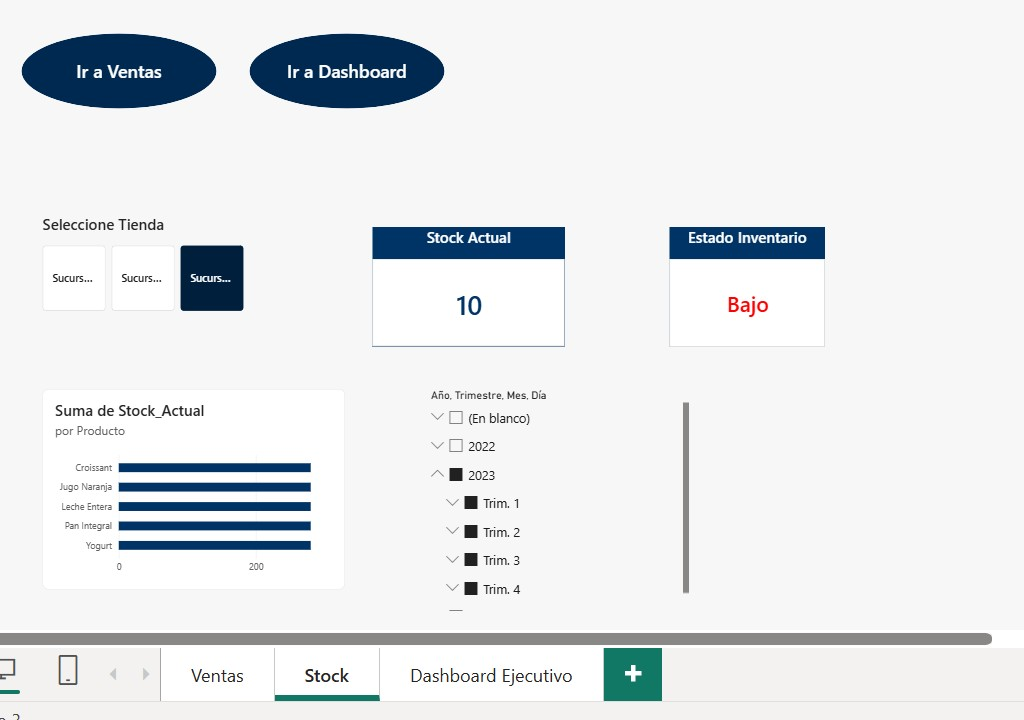

This screenshot's page, from the dashboard's own definition file:
{"tool":"powerbi","page":{"name":"Stock","canvas":[1920,1080],"ordinal":1},"visuals":[{"type":"actionButton","box":[50.1,66.8,260,100],"z":0},{"type":"cardVisual","title":"Stock Actual","fields":{"Data":["ventas.Stock Actual"]},"box":[517.7,324.5,256.7,159.6],"z":1000},{"type":"advancedSlicerVisual","title":"Seleccione Tienda","fields":{"Values":["dimTienda.Tienda"]},"box":[78.7,305.4,270,130],"z":2000},{"type":"actionButton","box":[353.1,66.8,260,100],"z":3000},{"type":"cardVisual","title":"Estado Inventario","fields":{"Data":["inventario.Estado Inventario"]},"box":[913.8,324.5,207.6,159.9],"z":4000},{"type":"clusteredBarChart","fields":{"Category":["dimProducto.Producto"],"Y":["Sum(inventario.Stock_Actual)"]},"box":[78,540,403.2,267.2],"z":5000},{"type":"slicer","fields":{"Values":["dimFecha.Fecha.Variación.Jerarquía de fechas.Año","dimFecha.Fecha.Variación.Jerarquía de fechas.Trimestre","dimFecha.Fecha.Variación.Jerarquía de fechas.Mes","dimFecha.Fecha.Variación.Jerarquía de fechas.Día"]},"box":[588,540,352,296],"z":5001}]}

Visuals, with their boxes on the page's 1920x1080 design canvas (x1, y1, x2, y2). These are canvas units, not pixel positions in the 1024x720 screenshot, which may show the page scaled, cropped or inside an application window:
actionButton: BBox(50, 67, 310, 167)
"Stock Actual" cardVisual: BBox(518, 324, 774, 484)
"Seleccione Tienda" advancedSlicerVisual: BBox(79, 305, 349, 435)
actionButton: BBox(353, 67, 613, 167)
"Estado Inventario" cardVisual: BBox(914, 324, 1121, 484)
clusteredBarChart - dimProducto.Producto x Sum(inventario.Stock_Actual): BBox(78, 540, 481, 807)
slicer - dimFecha.Fecha.Variación.Jerarquía de fechas.Año x dimFecha.Fecha.Variación.Jerarquía de fechas.Trimestre: BBox(588, 540, 940, 836)
